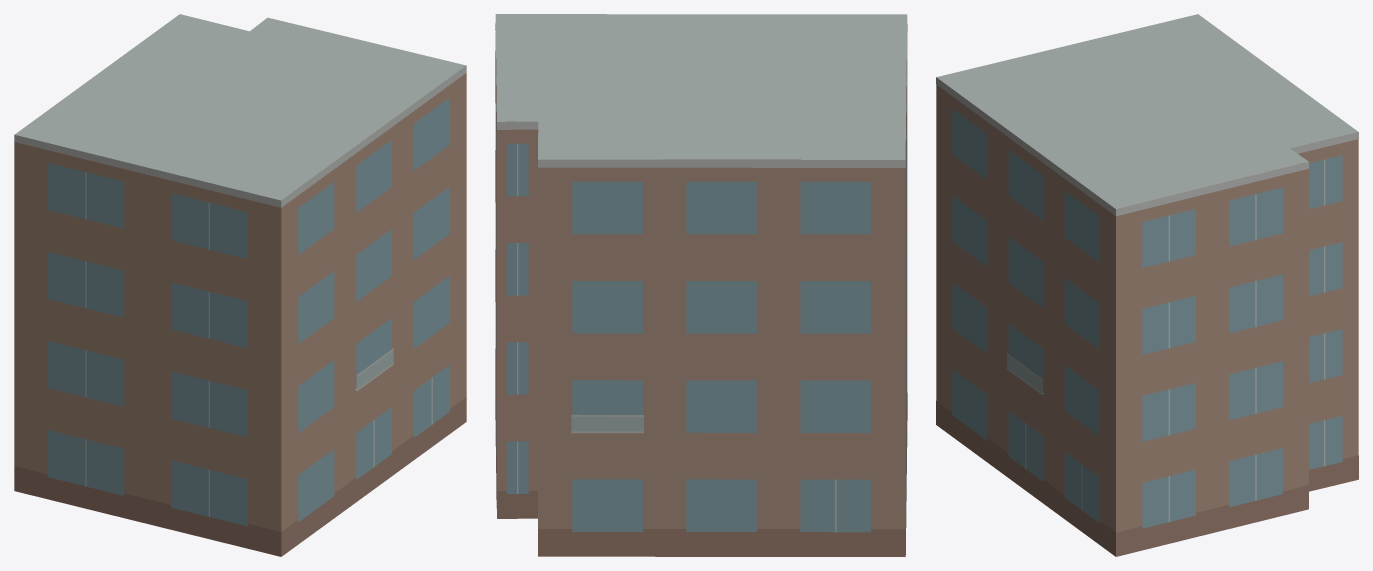
Rendered from survey-upis-32748865.glb.
The picture shows the model from 3 angles, left to right: view 1: azimuth 30°, elevation 25°; view 2: azimuth 150°, elevation 25°; view 3: azimuth 270°, elevation 25°; orthographic projection. The views are drawn at different scales.
Visible parts, largest first — view 1: survey-upis-32748865.tmp; view 2: survey-upis-32748865.tmp; view 3: survey-upis-32748865.tmp.
Boxes of the visible parts, x1=… form: survey-upis-32748865.tmp: x1=14, y1=14, x2=466, y2=556; survey-upis-32748865.tmp: x1=495, y1=14, x2=907, y2=556; survey-upis-32748865.tmp: x1=936, y1=14, x2=1358, y2=556.
Size of the model in its own units: 14.46 by 12 by 13.23.
